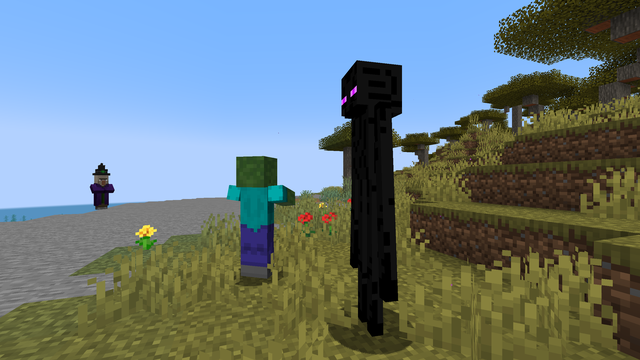endermens: (334, 47, 409, 347)
sorcieres: (91, 173, 109, 209)
zombies: (238, 158, 277, 282)
